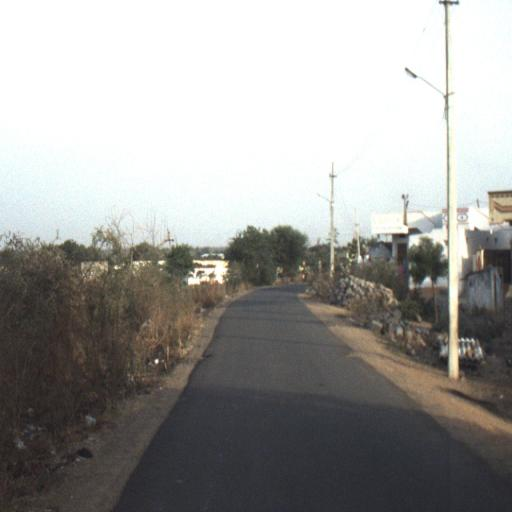street_light_0: (404, 66, 456, 120), (316, 192, 334, 214)
